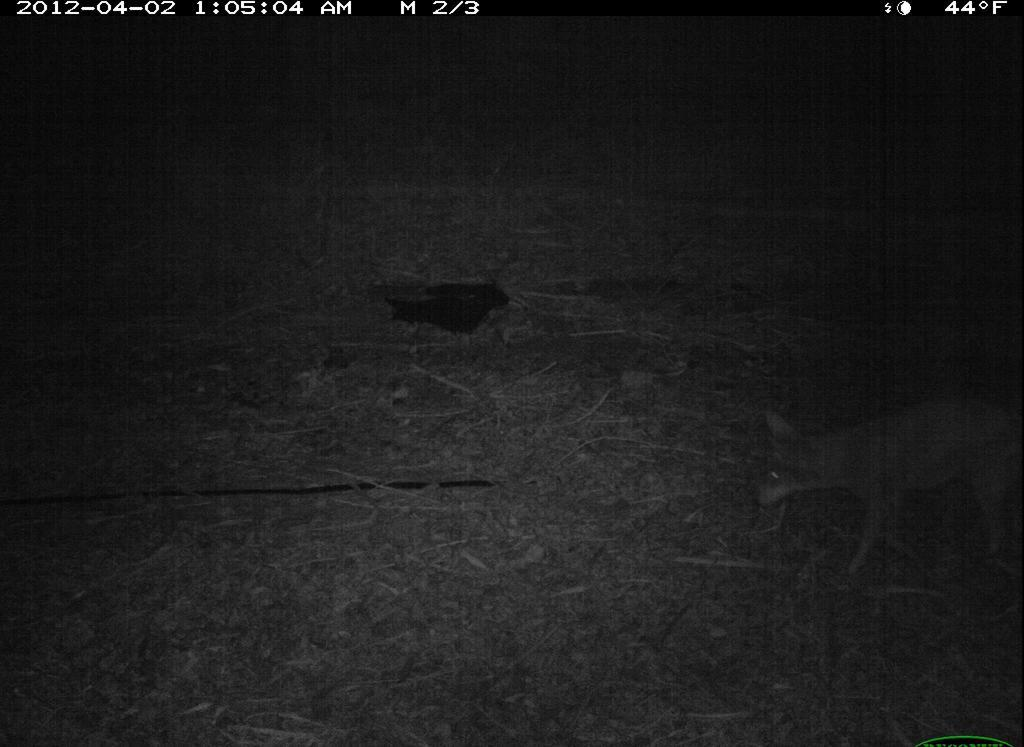coyote: (722, 387, 1018, 578)
